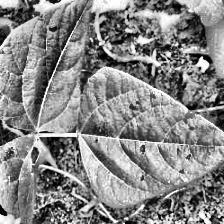ALS: (75, 63, 224, 212), (0, 8, 82, 90), (0, 130, 54, 194)
